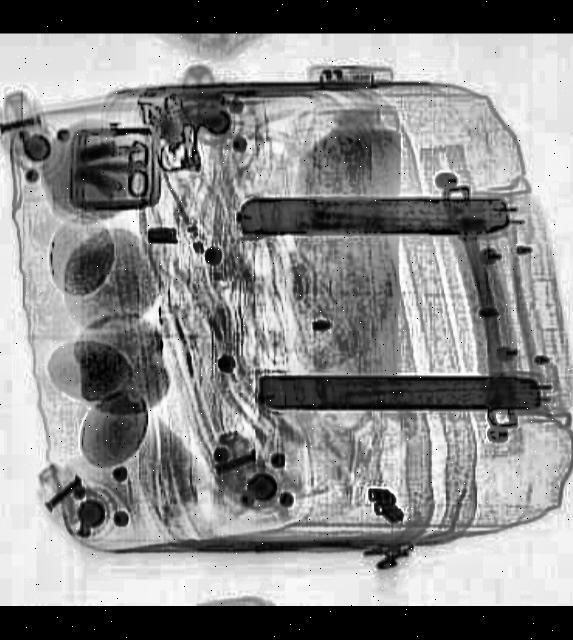Scissors: (84, 139, 152, 196)
